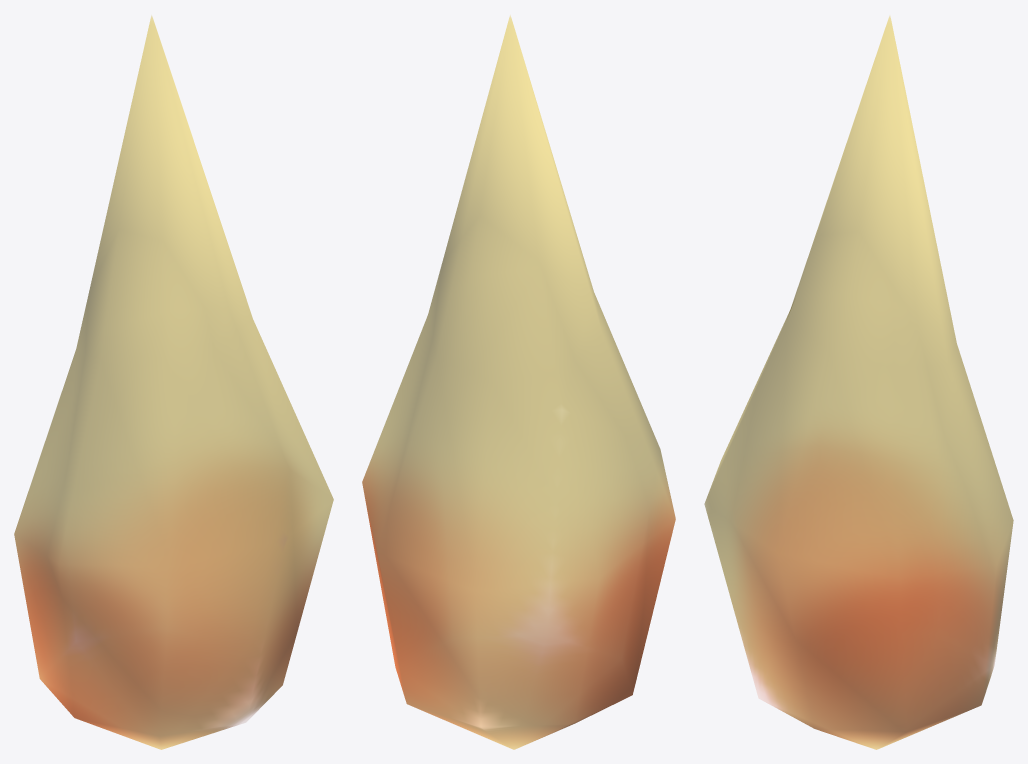
Rendered from flame.obj.
3 views of the same model, side by side, from view 1: azimuth 30°, elevation 25°; view 2: azimuth 150°, elevation 25°; view 3: azimuth 270°, elevation 25° (orthographic).
Parts seen in each view (by area): view 1: flame9_Cylinder.014; view 2: flame9_Cylinder.014; view 3: flame9_Cylinder.014.
Boxes of the visible parts, bbox=[...] form: flame9_Cylinder.014: bbox=[14, 15, 333, 749]; flame9_Cylinder.014: bbox=[362, 15, 675, 749]; flame9_Cylinder.014: bbox=[704, 15, 1013, 749].
Size of the model in its own units: 0.0444 by 0.1152 by 0.044.
Materials: 1 (1 with a texture image).
